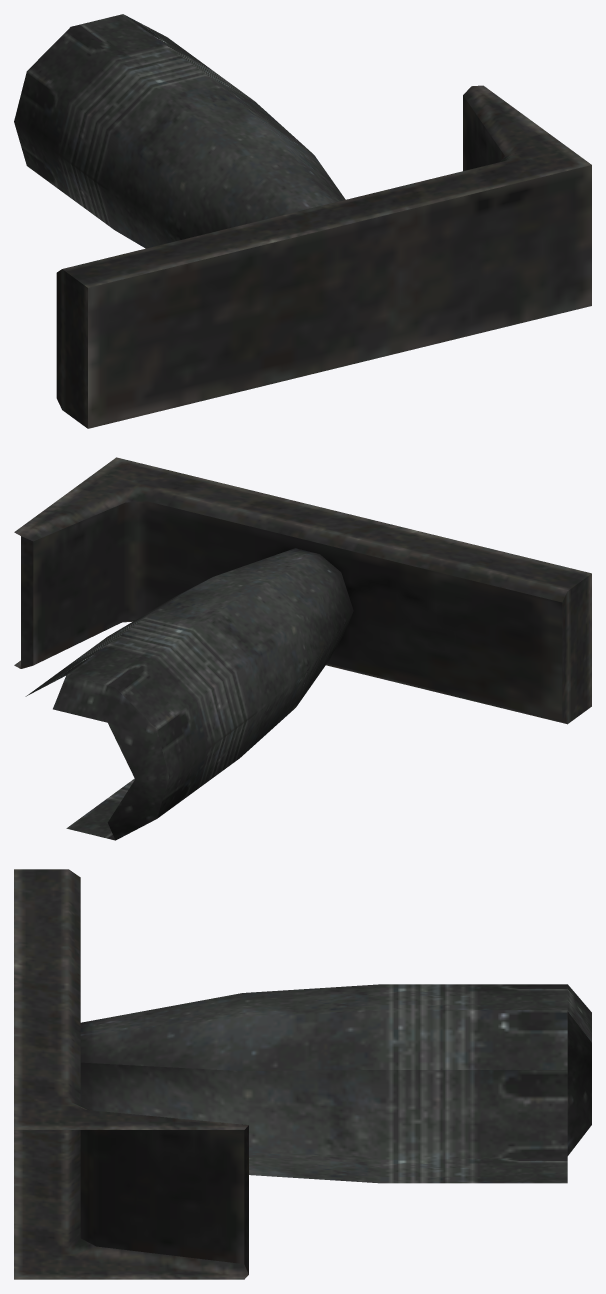
Rendered from t6_attach_grip_vector_view_LOD0.obj.
The picture shows the model from 3 angles, top to bottom: view 1: azimuth 30°, elevation 25°; view 2: azimuth 150°, elevation 25°; view 3: azimuth 270°, elevation 25°; orthographic projection. The views are drawn at different scales.
Parts seen in each view (by area): view 1: mtl_t6_attach_grip_vector; view 2: mtl_t6_attach_grip_vector; view 3: mtl_t6_attach_grip_vector.
Boxes of the visible parts, x1=… form: mtl_t6_attach_grip_vector: x1=14, y1=14, x2=591, y2=428; mtl_t6_attach_grip_vector: x1=14, y1=457, x2=591, y2=840; mtl_t6_attach_grip_vector: x1=14, y1=869, x2=591, y2=1279.
Bounding box in the file's own units: 9.59 × 2.95 × 8.98.
